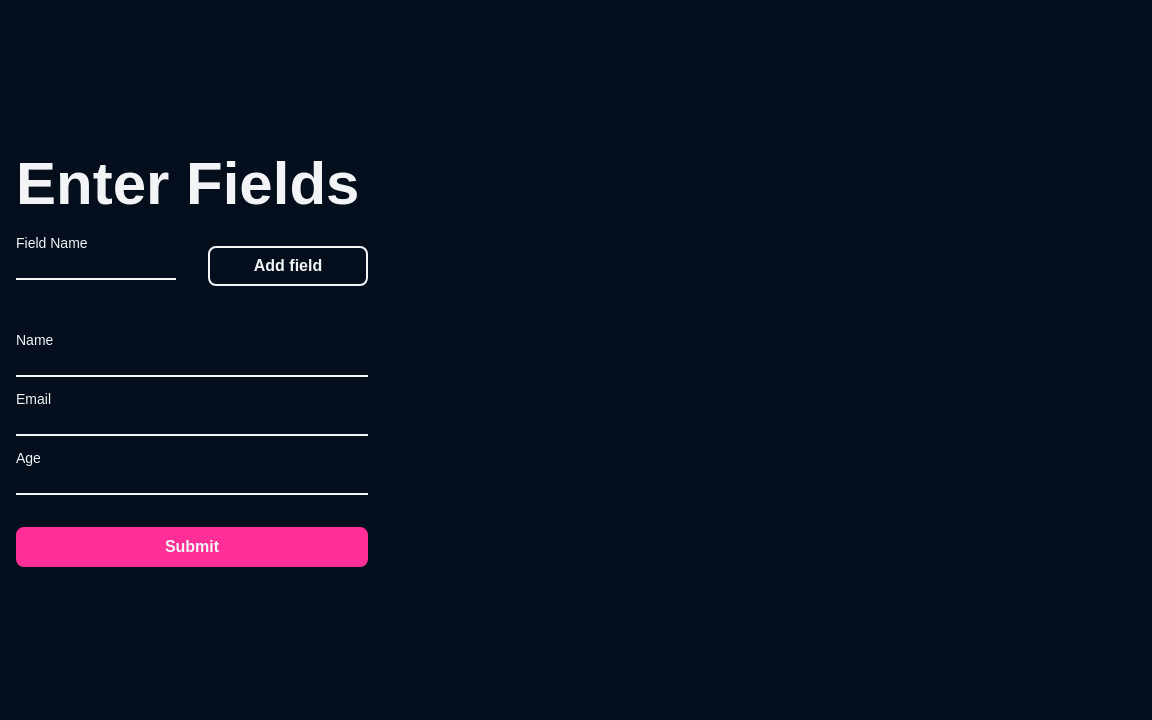
Test: user journey from homepage › Error message shows for negative age
The width and height of the screenshot is (1152, 720).
Type "John Doe" into the field with test id "name".
click(192, 364); type("John Doe")  # box [16,351,368,377]
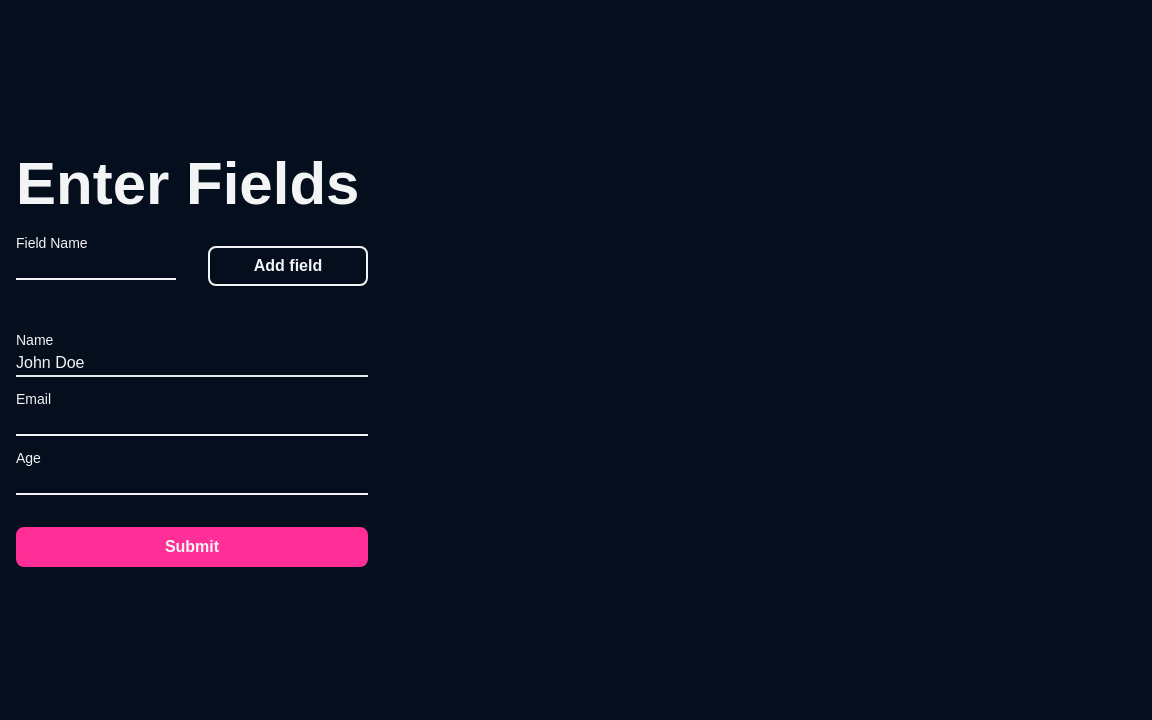
Type "johndoe@gmail.com" into the field with test id "email".
click(192, 423); type("johndoe@gmail.com")  # box [16,410,368,436]
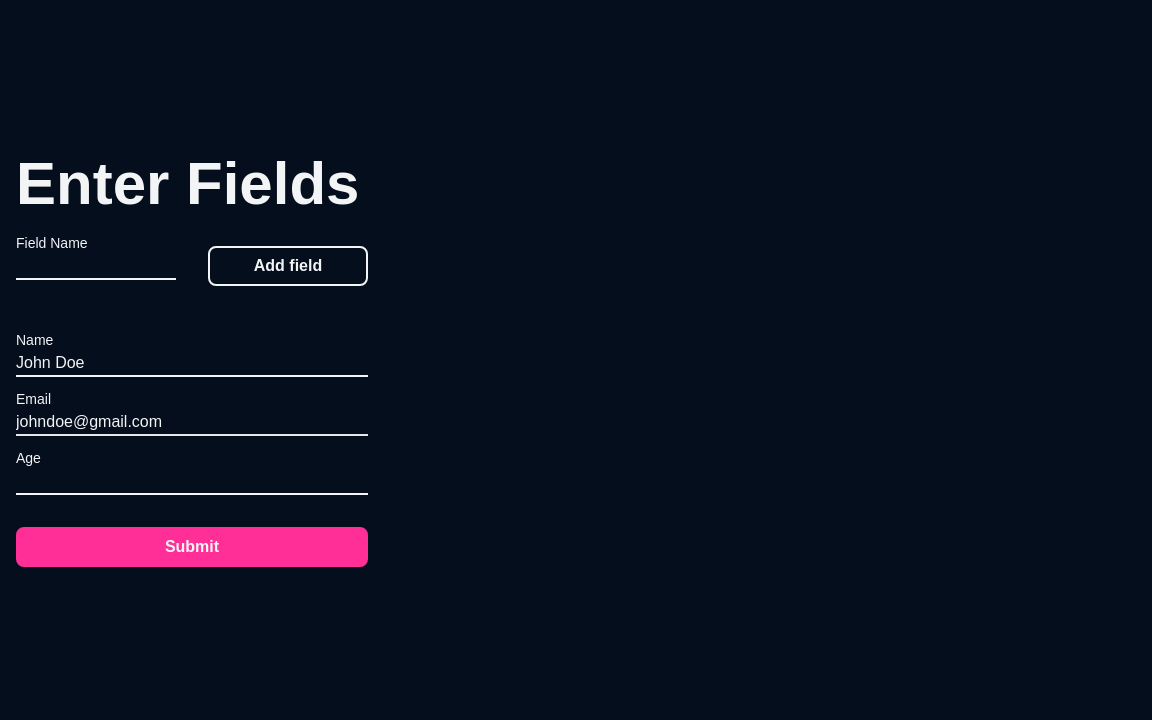
Type "-23" into the number field with test id "age".
click(192, 482); type("-23")  # box [16,469,368,495]
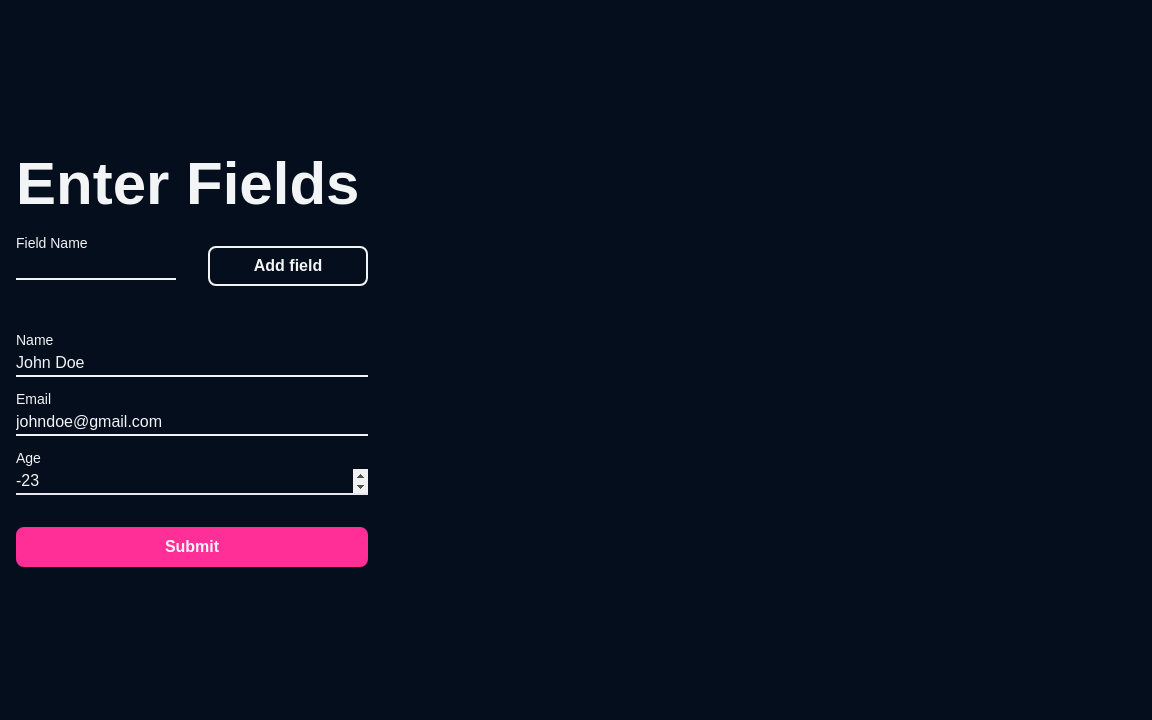
Click the button with test id "add_entry".
click(192, 547)  # box [16,527,368,567]
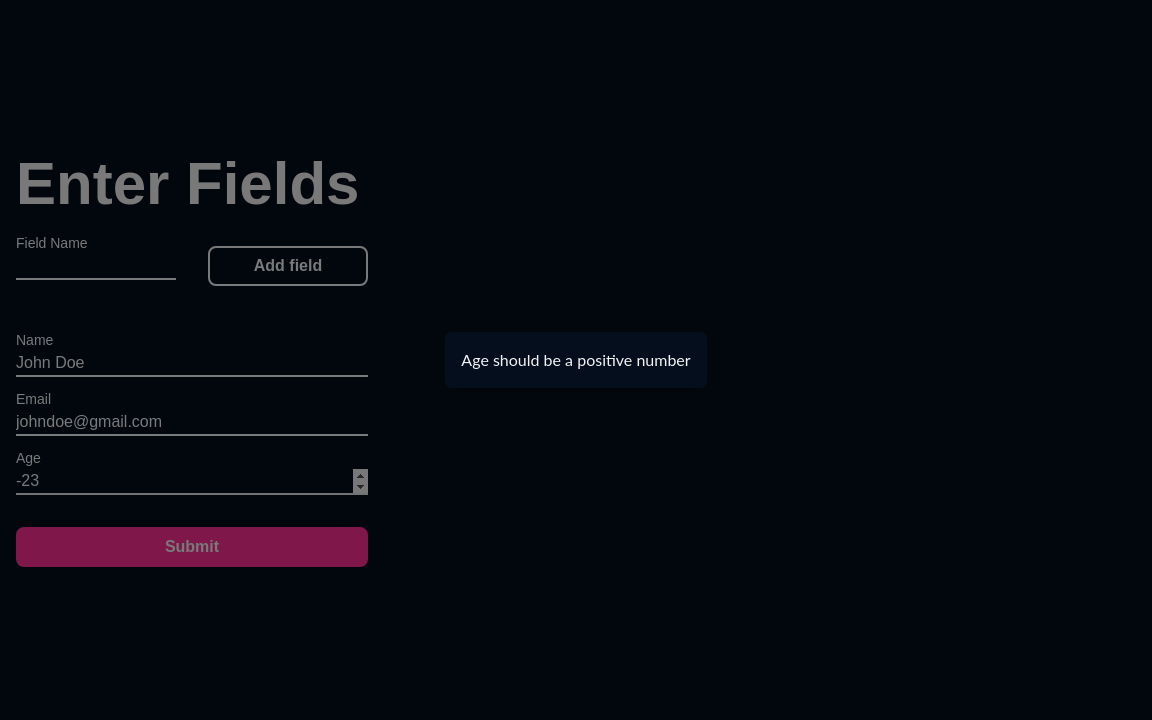
Now the number of elements with test id "error_message" is 1, box [461,350,690,369]
